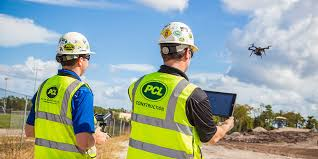helmet: (159, 22, 202, 50), (56, 31, 95, 55)
vest: (127, 74, 208, 159), (35, 79, 98, 159)
